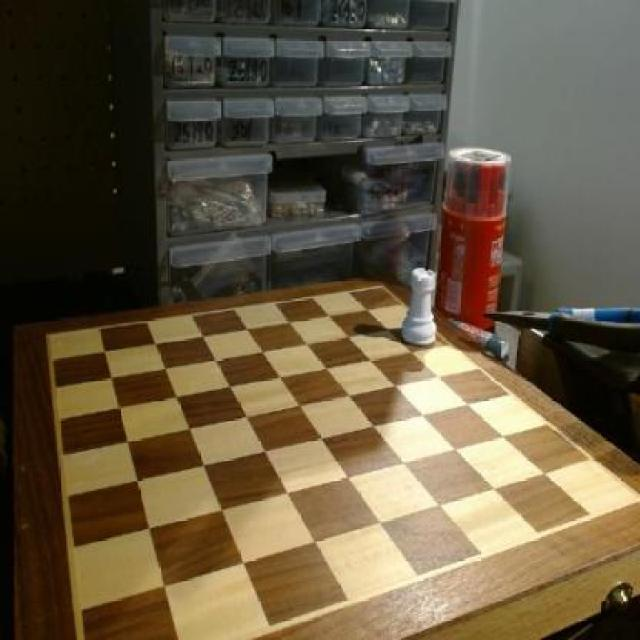white-queen: (398, 268, 444, 348)
